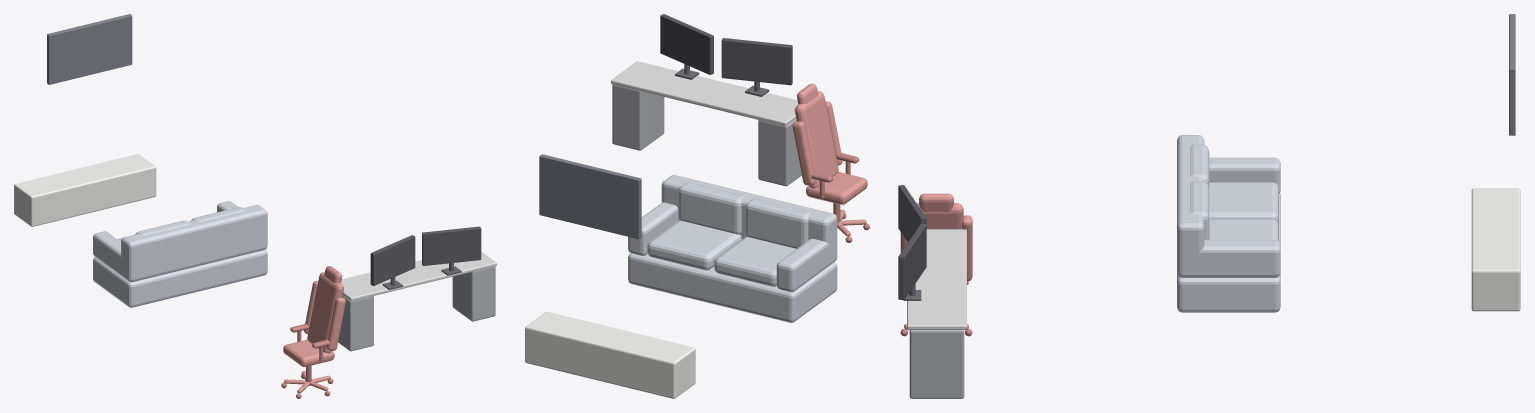
Rendered from agent_scene.glb.
3 views of the same model, side by side, from view 1: azimuth 30°, elevation 25°; view 2: azimuth 150°, elevation 25°; view 3: azimuth 270°, elevation 25° (orthographic). The views are drawn at different scales.
Parts seen in each view (by area): view 1: sofa, bench, desk, tv, chair, monitor_R, monitor_L; view 2: sofa, desk, bench, tv, chair, monitor_L, monitor_R; view 3: sofa, desk, bench, chair, monitor_R, monitor_L, tv.
Boxes of the visible parts, x1,y1,x2,y2 form: sofa: (93, 201, 267, 307); bench: (14, 154, 156, 226); desk: (338, 251, 496, 351); tv: (47, 14, 132, 84); chair: (281, 266, 345, 398); monitor_R: (422, 226, 481, 275); monitor_L: (370, 235, 415, 289); sofa: (628, 175, 837, 322); desk: (611, 61, 801, 186); bench: (525, 311, 695, 398); tv: (539, 154, 641, 239); chair: (792, 83, 869, 242); monitor_L: (721, 38, 792, 96); monitor_R: (660, 14, 713, 79); sofa: (1177, 135, 1280, 312); desk: (907, 229, 966, 398); bench: (1471, 188, 1520, 311); chair: (900, 193, 972, 336); monitor_R: (898, 223, 926, 300); monitor_L: (898, 185, 926, 241); tv: (1509, 14, 1515, 135).
Bounding box in the file's own units: 3.85 × 2.89 × 5.7.
